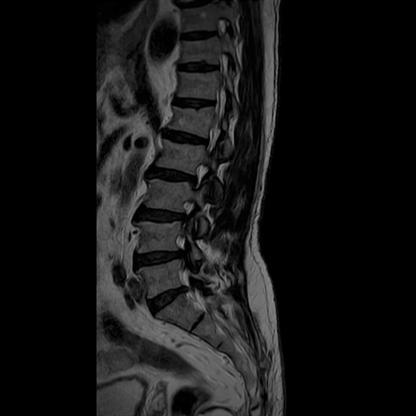Annular Disc Relaxationrotation: (147, 165, 196, 188), (163, 129, 209, 150)
Disc Bulgerotation: (133, 249, 182, 271), (146, 288, 191, 311)
